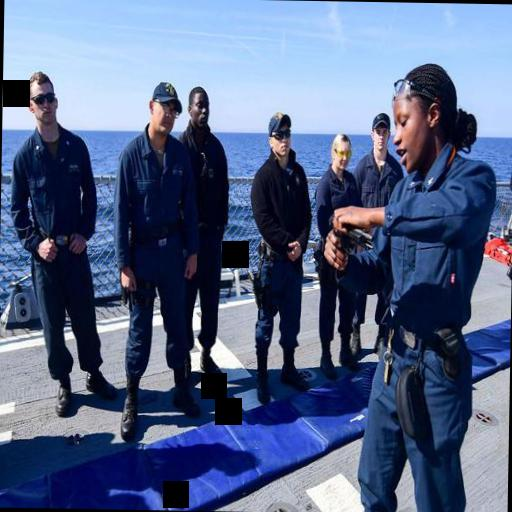Handgun: (326, 207, 373, 264)
